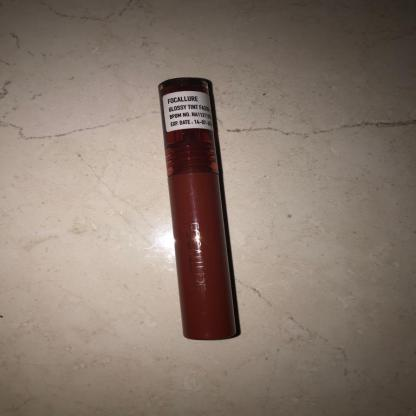lipstick: (140, 61, 290, 383)
